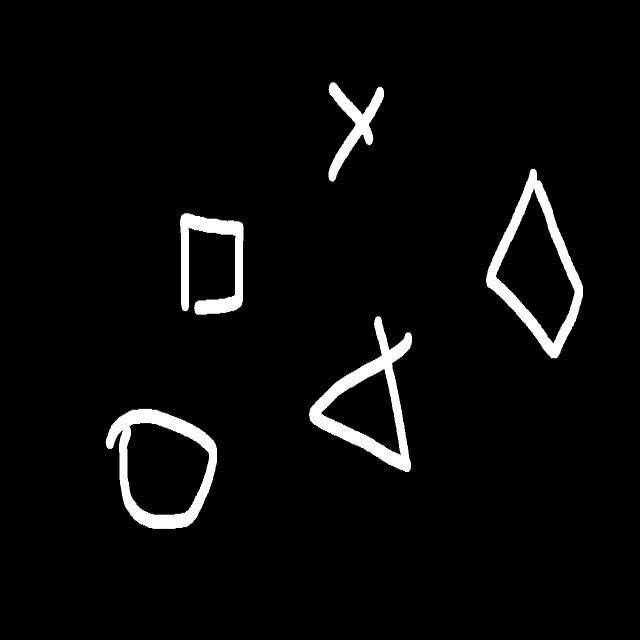circle: (106, 410, 216, 529)
cross: (328, 83, 384, 181)
diamond: (486, 169, 583, 358)
rectangle: (181, 213, 244, 314)
triangle: (310, 317, 412, 471)
